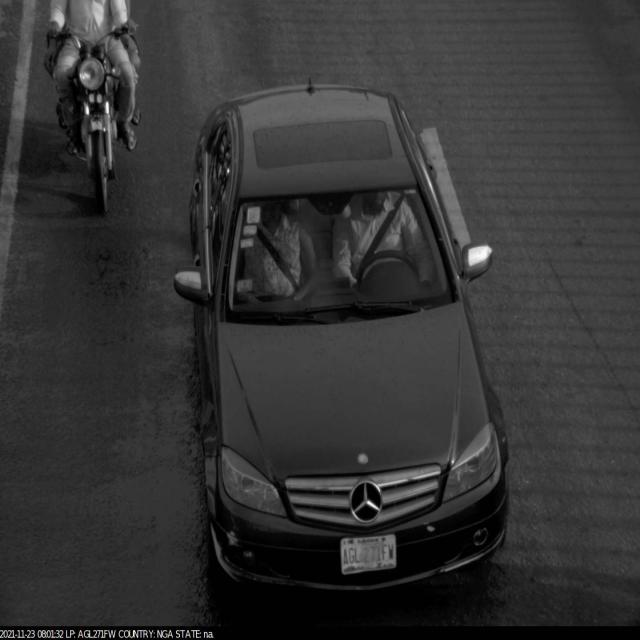windshield: (222, 182, 461, 326)
